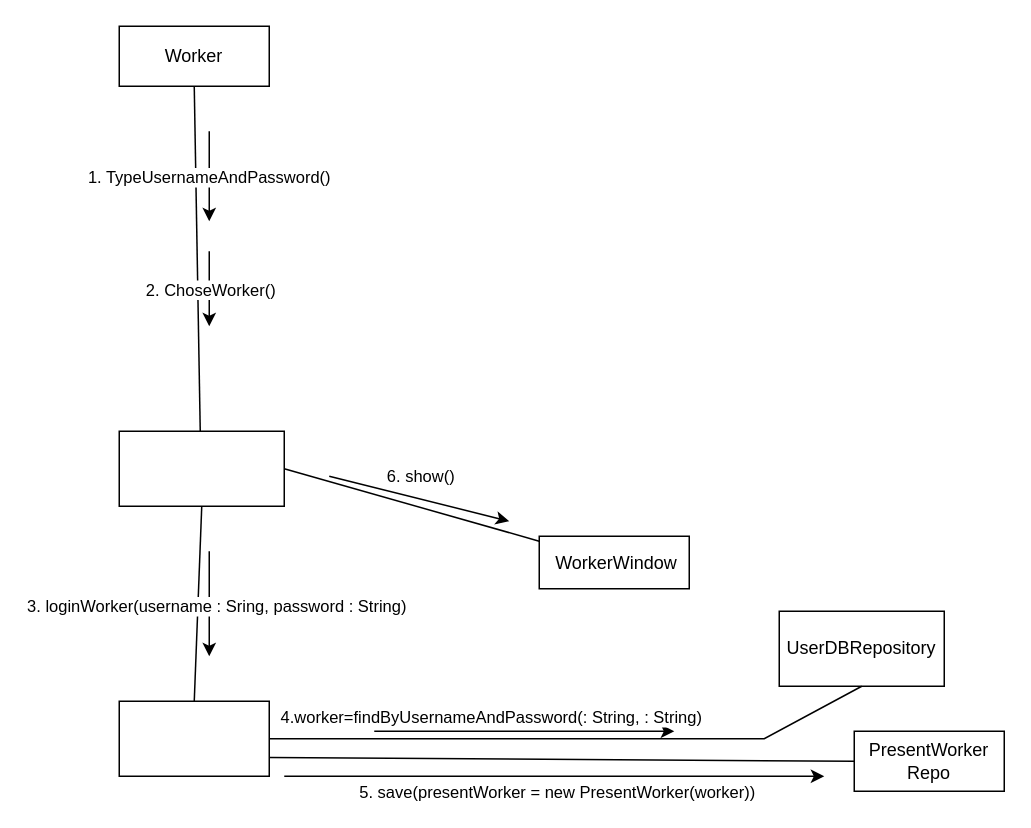
The diagram is 1031 pixels wide and 828 high, and some of its shapes have lost their labels. Here are the shapes that lost their labels. From the top down, the box of each, then its label:
(118, 430, 284, 506): <<boundary>> LoginWindow
(118, 700, 269, 776): Service
